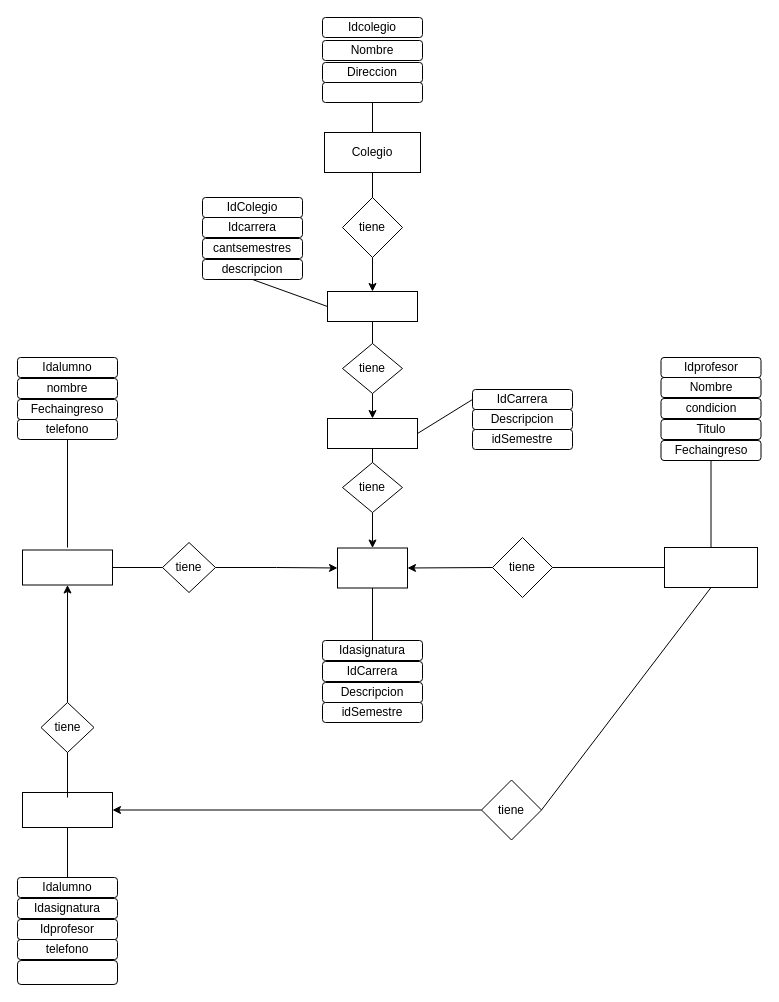
Image size: 779x1002. Some labels were removed from this diagram. The centre of each missing label's shape, as x and y in pixels:
"Alumnos" goes at point 67,567.
"Asignaturas" goes at point 372,567.
"Carreras" goes at point 372,306.
"Evaluaciones" goes at point 67,810.
"Nota" goes at point 67,972.
"Profesores" goes at point 711,567.
"Semestre" goes at point 372,433.
"tipo" goes at point 372,92.
